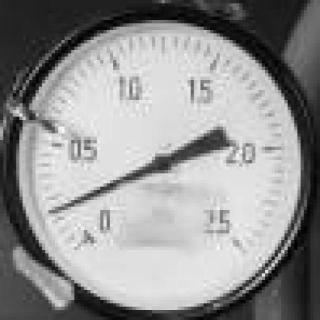gauge: (0, 0, 320, 320), (190, 206, 256, 266), (65, 206, 133, 264), (65, 206, 132, 264), (148, 149, 175, 175), (45, 207, 60, 217)
